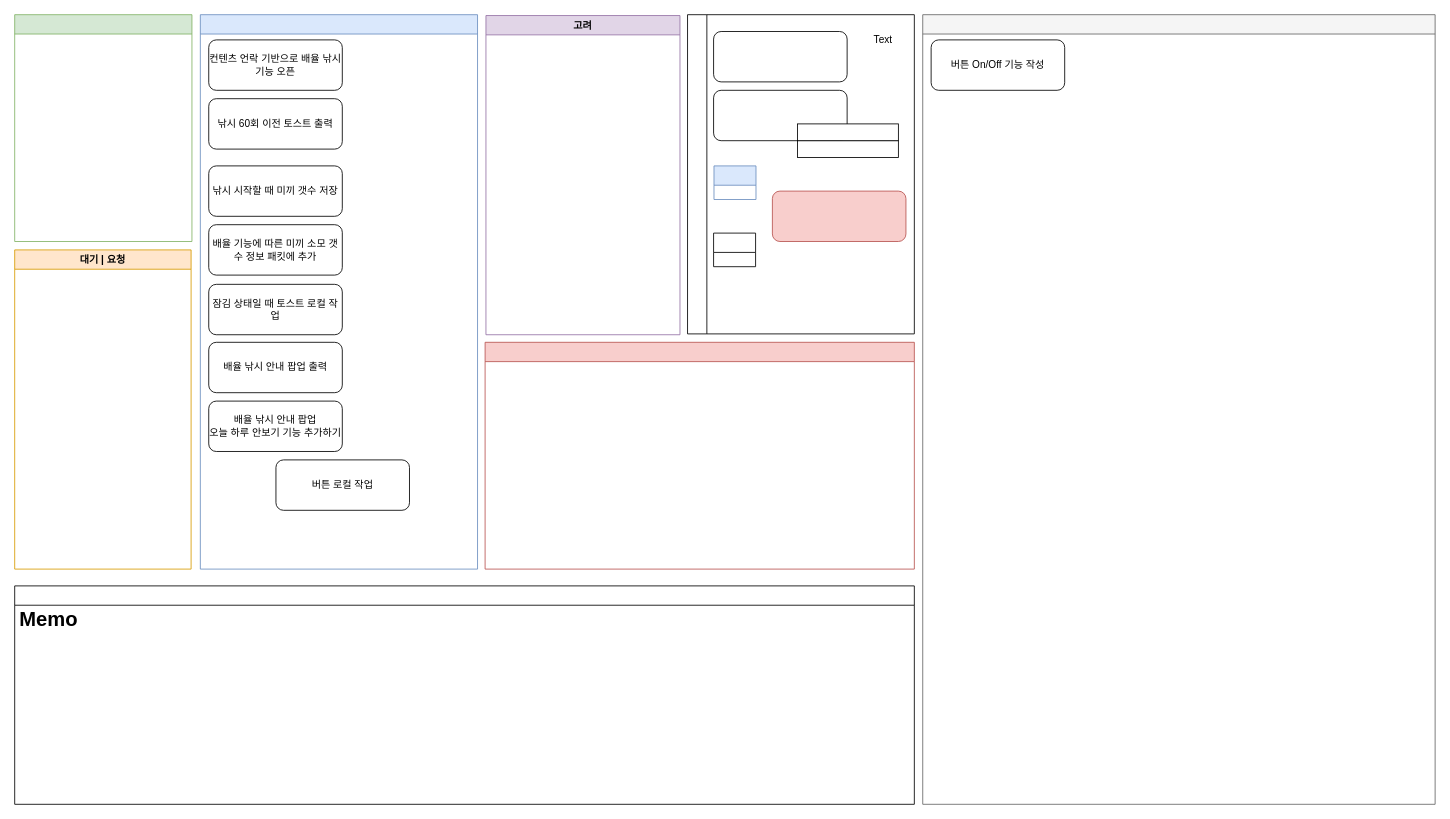
Image size: 1450x819. Some labels were removed from this diagram. The shapes that lost their labels are listed below. From the top down, each one's box as (x1, y1, x2, y2) in pixels, then its label:
(14, 14, 192, 242): 분석 | 논의
(687, 14, 914, 334): Tool
(200, 14, 478, 569): 구현
(922, 14, 1435, 804): 폐기 | 완료
(484, 341, 914, 569): 에러 | 수정
(14, 585, 914, 804): My Comment
